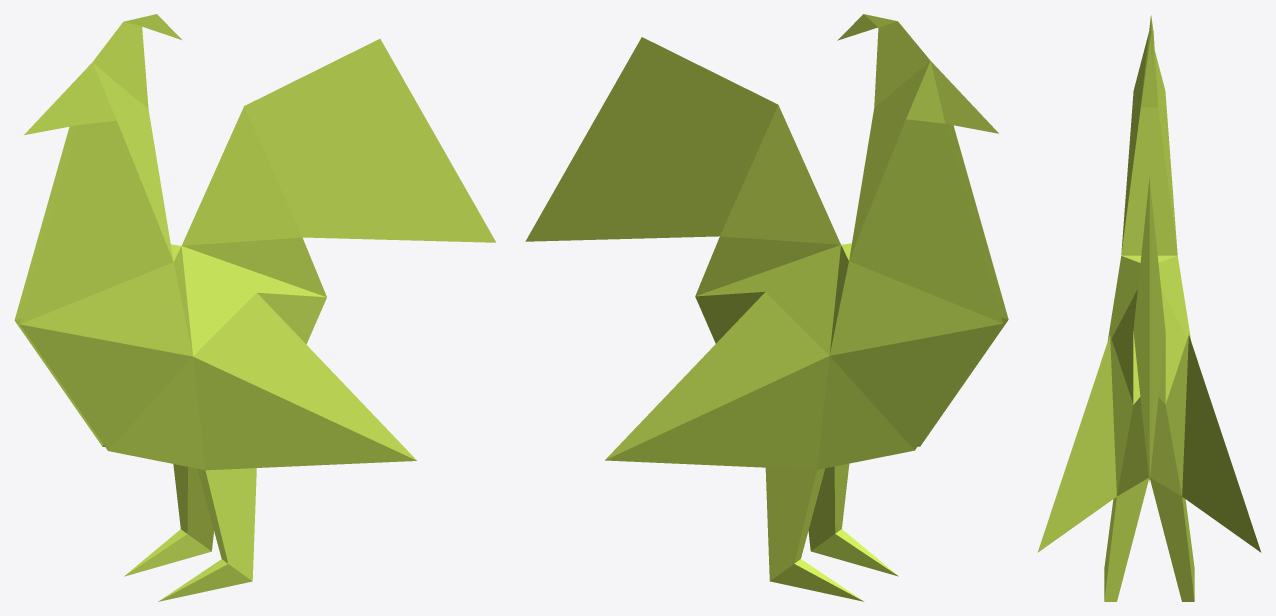
Rendered from Rooster.fbx.
3 renders of one model, left to right at view 1: azimuth 30°, elevation 25°; view 2: azimuth 150°, elevation 25°; view 3: azimuth 270°, elevation 25°, orthographic. The views are drawn at different scales.
Visible parts, largest first — view 1: Rooster; view 2: Rooster; view 3: Rooster.
Boxes of the visible parts, left/top/right/bottom form: Rooster: left=14, top=14, right=495, bottom=601; Rooster: left=525, top=14, right=1008, bottom=601; Rooster: left=1037, top=15, right=1261, bottom=601.
Bounding box in the file's own units: 138 × 157 × 58.66.
